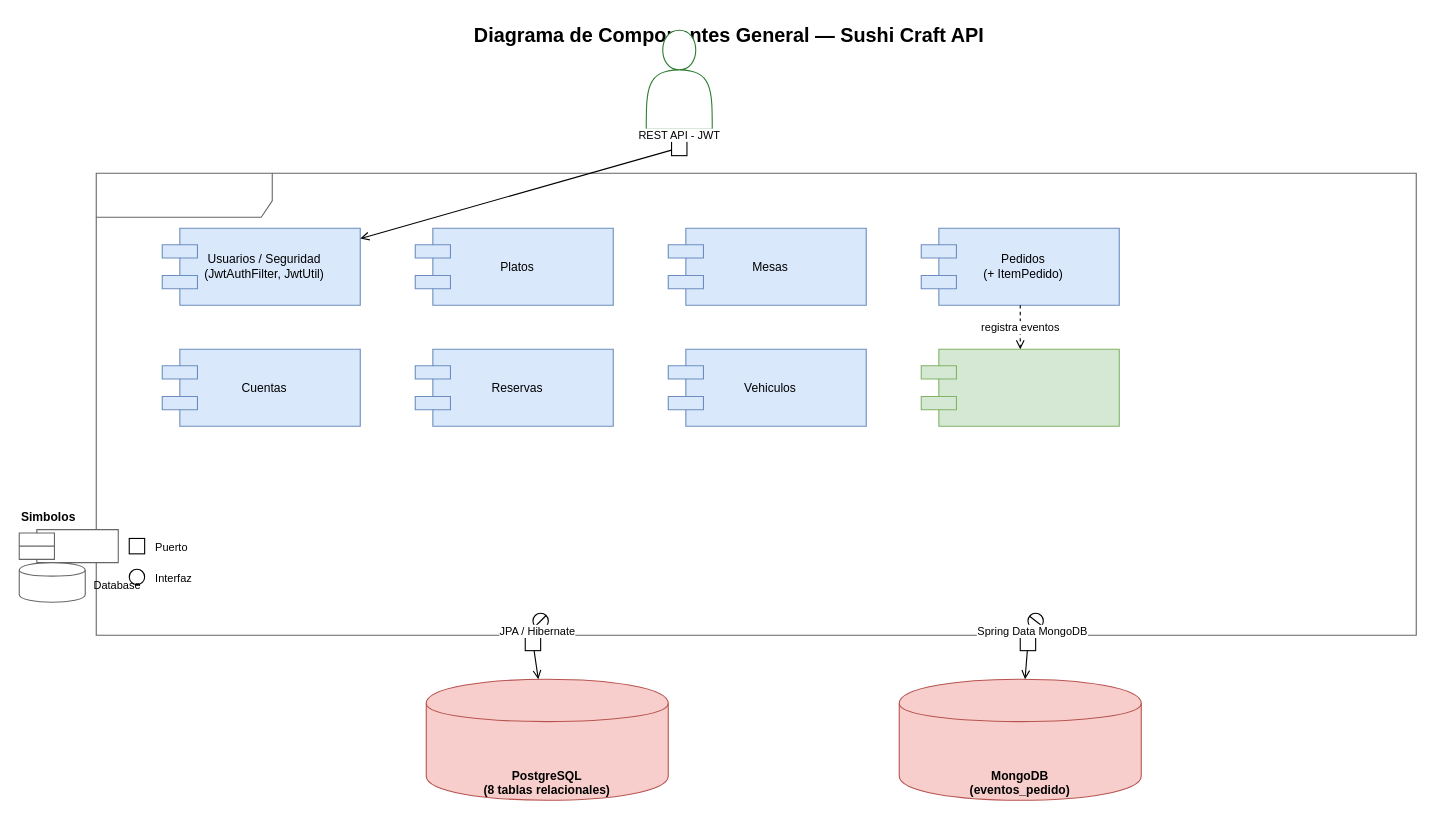
Image size: 1436x820. Some labels were removed from this diagram. Here are the shapes that lost their labels. From the top down, the box of each, then its label:
(645, 29, 712, 129): Cliente / Postman
(95, 172, 1416, 635): Sushi Craft - Backend (Spring Boot)
(920, 348, 1119, 426): EventoPedido (Historial, Mongo)
(18, 529, 118, 563): Component
